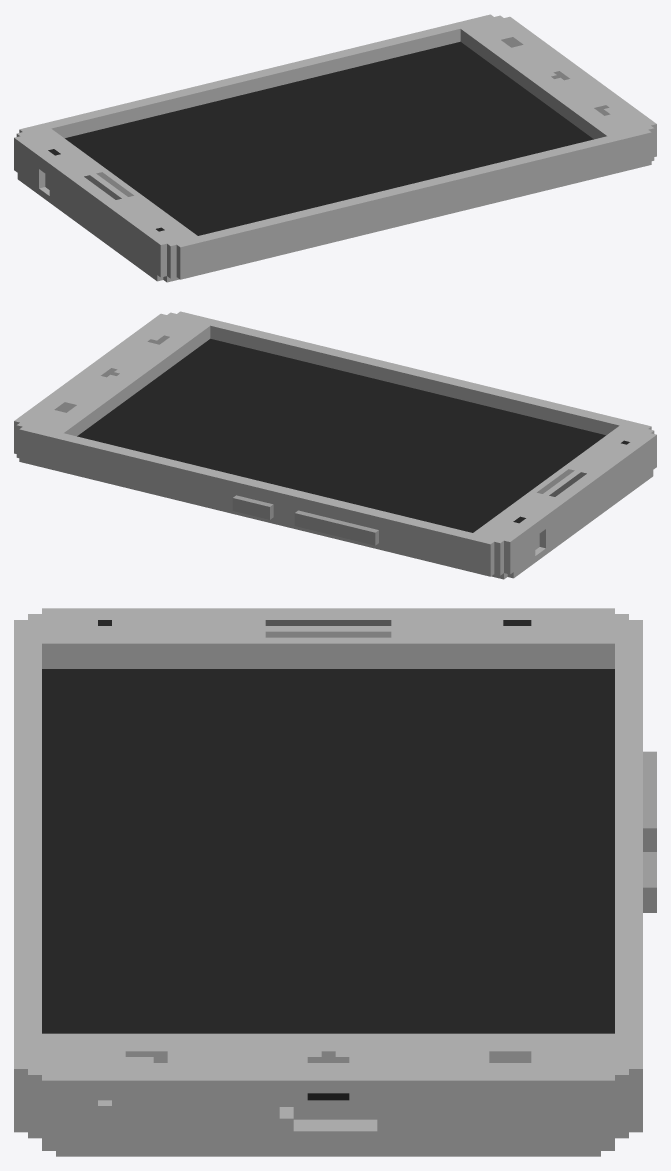
The model's file is Phone.fbx.
The picture shows the model from 3 angles, top to bottom: view 1: azimuth 30°, elevation 25°; view 2: azimuth 150°, elevation 25°; view 3: azimuth 270°, elevation 25°; orthographic projection. The views are drawn at different scales.
Visible parts, largest first — view 1: ObjObject; view 2: ObjObject; view 3: ObjObject.
Boxes of the visible parts, x1,y1,x2,y2 form: ObjObject: [14, 14, 656, 282]; ObjObject: [14, 311, 656, 579]; ObjObject: [14, 608, 656, 1156].
Bounding box in the file's own units: 800 × 60 × 460.
1 material, 1 textured.
